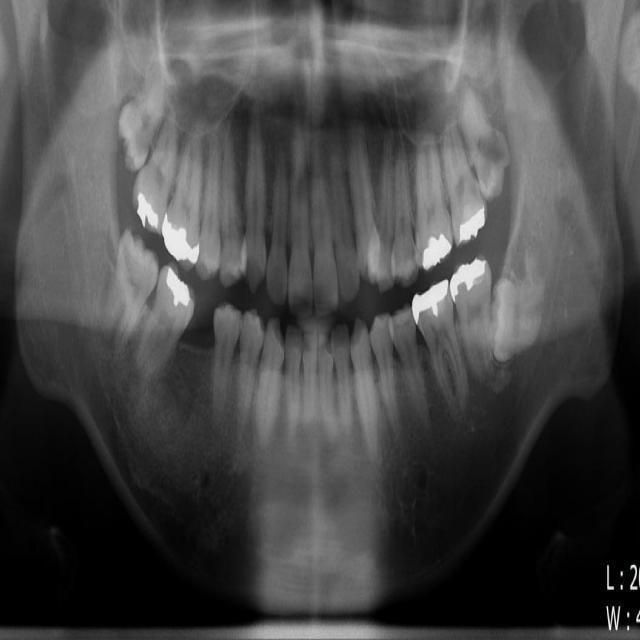Caries: (477, 133, 506, 162), (318, 333, 333, 369), (302, 334, 317, 364)
Filling: (163, 212, 200, 265), (412, 277, 449, 325), (449, 257, 486, 300), (417, 233, 453, 270), (128, 194, 160, 232), (455, 208, 485, 242), (164, 269, 190, 307)
Missing teeth: (177, 298, 215, 352)
Periapical lesion: (98, 274, 115, 347), (487, 370, 512, 394)
impacted tooth: (460, 88, 509, 196), (119, 53, 164, 170), (492, 273, 545, 359)
